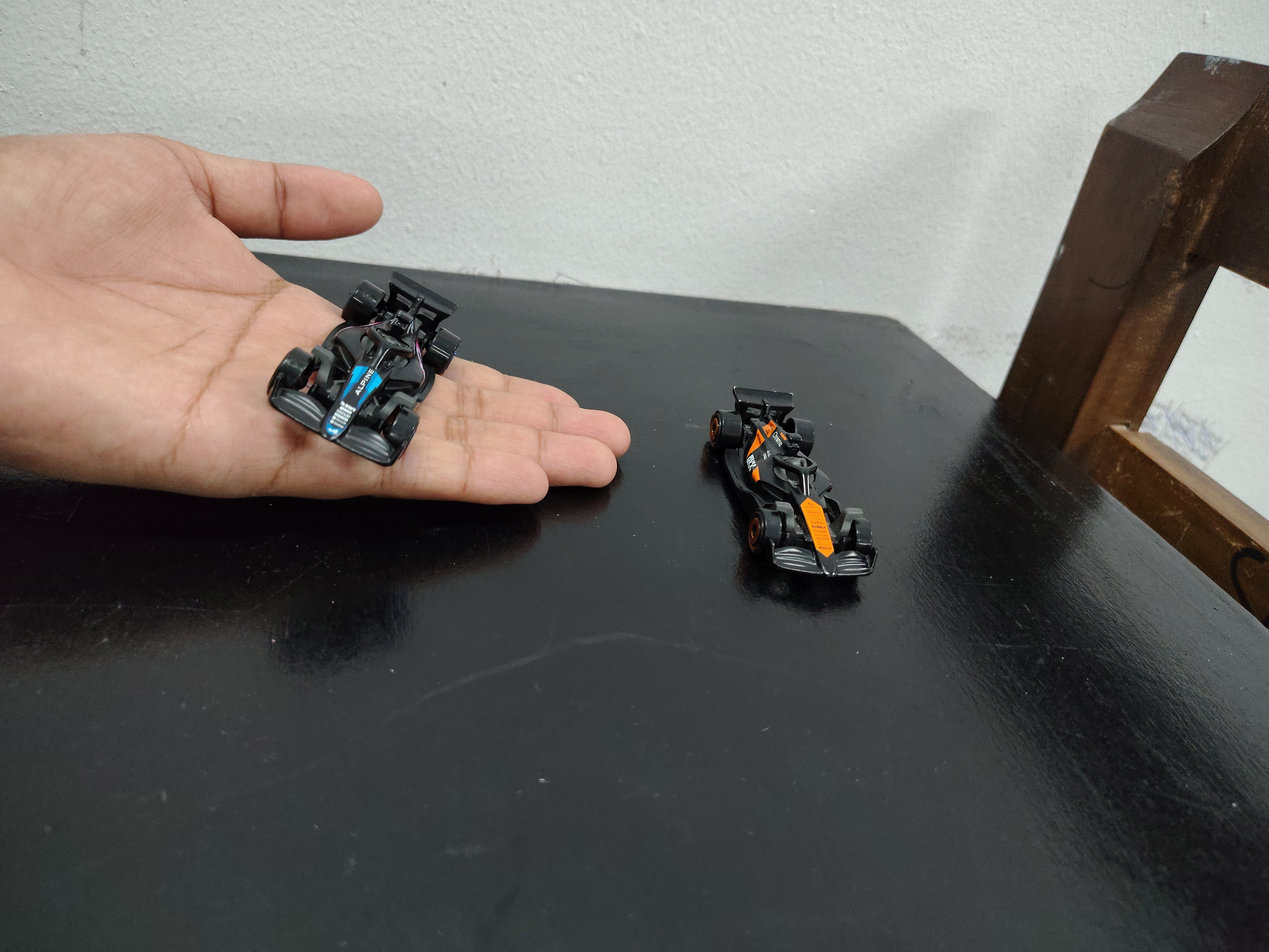Alpine A524: (249, 239, 496, 465)
McLaren MCL40: (713, 319, 888, 614)
